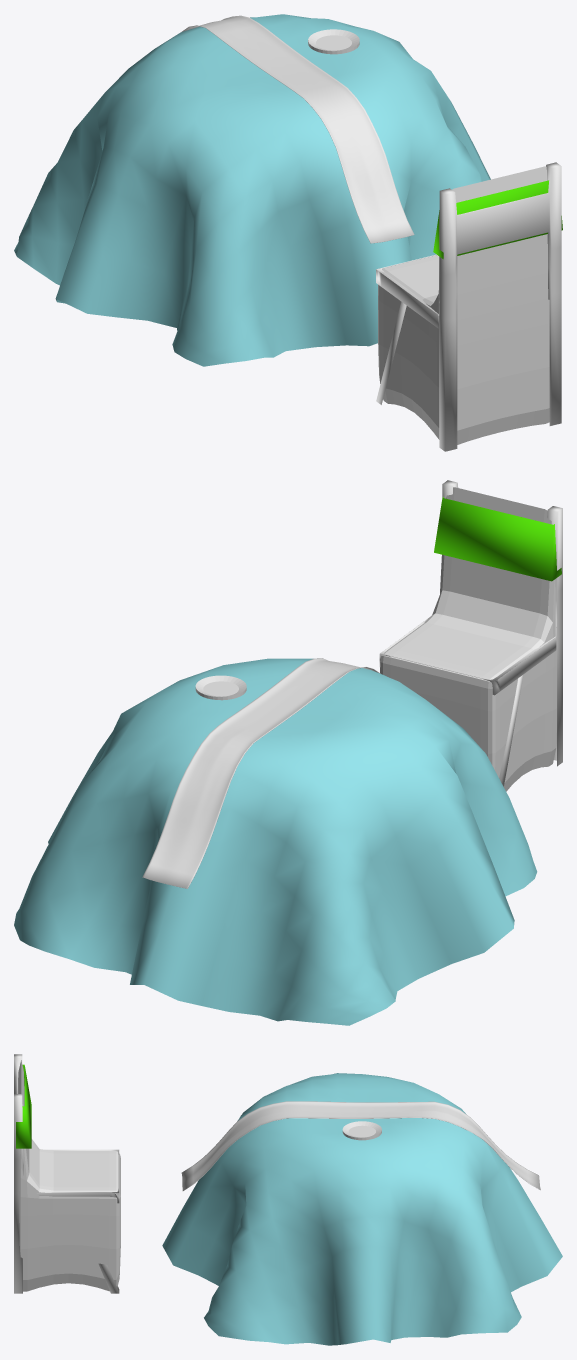
The model's file is PFScene8.gltf.
3 renders of one model, top to bottom at view 1: azimuth 30°, elevation 25°; view 2: azimuth 150°, elevation 25°; view 3: azimuth 270°, elevation 25°, orthographic. The views are drawn at different scales.
Visible parts, largest first — view 1: TableCloth, Chair.001, BasicChair, TableRunner.001, ChairRunner, Plate; view 2: TableCloth, Chair.001, TableRunner.001, ChairRunner, BasicChair, Plate; view 3: TableCloth, Chair.001, TableRunner.001, BasicChair, ChairRunner, Plate.
Part boxes in pixels (x1,y1,x2,y2): TableCloth: (14,14,490,366); Chair.001: (378,166,549,444); BasicChair: (376,162,561,451); TableRunner.001: (182,15,414,243); ChairRunner: (433,180,562,259); Plate: (308,29,359,54); TableCloth: (14,658,537,1025); Chair.001: (380,487,556,791); TableRunner.001: (142,658,380,888); ChairRunner: (434,497,561,581); BasicChair: (379,480,562,786); Plate: (195,675,246,700); TableCloth: (162,1073,562,1345); Chair.001: (18,1060,120,1291); TableRunner.001: (181,1101,540,1190); BasicChair: (14,1054,119,1293); ChairRunner: (16,1064,31,1148); Plate: (342,1121,381,1140).
Size of the model in its own units: 152 by 90.34 by 209.
